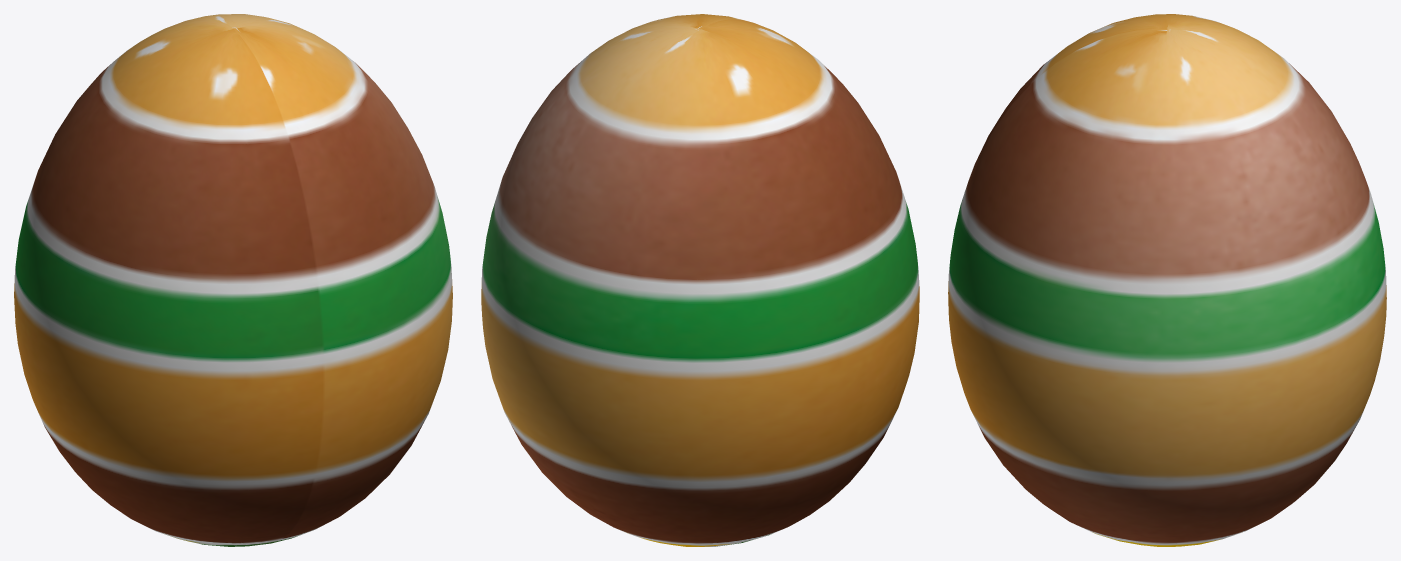
Rendered from mcdonalds_easter_demo_bigmac.fbx.
3 renders of one model, left to right at view 1: azimuth 30°, elevation 25°; view 2: azimuth 150°, elevation 25°; view 3: azimuth 270°, elevation 25°, orthographic.
Parts seen in each view (by area): view 1: big_mac; view 2: big_mac; view 3: big_mac.
Boxes of the visible parts, box(x1,y1,x2,y2) form: big_mac: box(14, 14, 452, 546); big_mac: box(481, 14, 919, 546); big_mac: box(948, 14, 1386, 546).
Size of the model in its own units: 184 by 231 by 184.
1 material, 1 textured.
